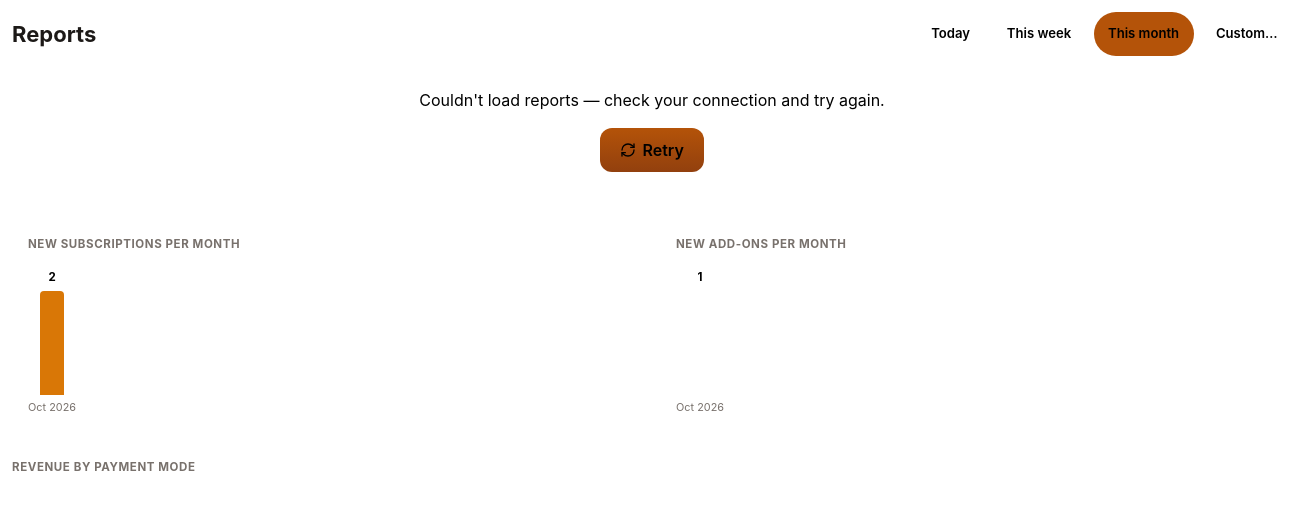
Test case: ReportsPage — the two sections load independently › a failing summary offers a Retry that reloads ONLY the member summary
Check: the text "Couldn't load reports — check your connection and try again." is shown, box [419, 90, 885, 110]
What coordinates should you click on to do the following:
click the button "Retry"
I would click on:
 (652, 150)
Its box is [600, 128, 704, 172].
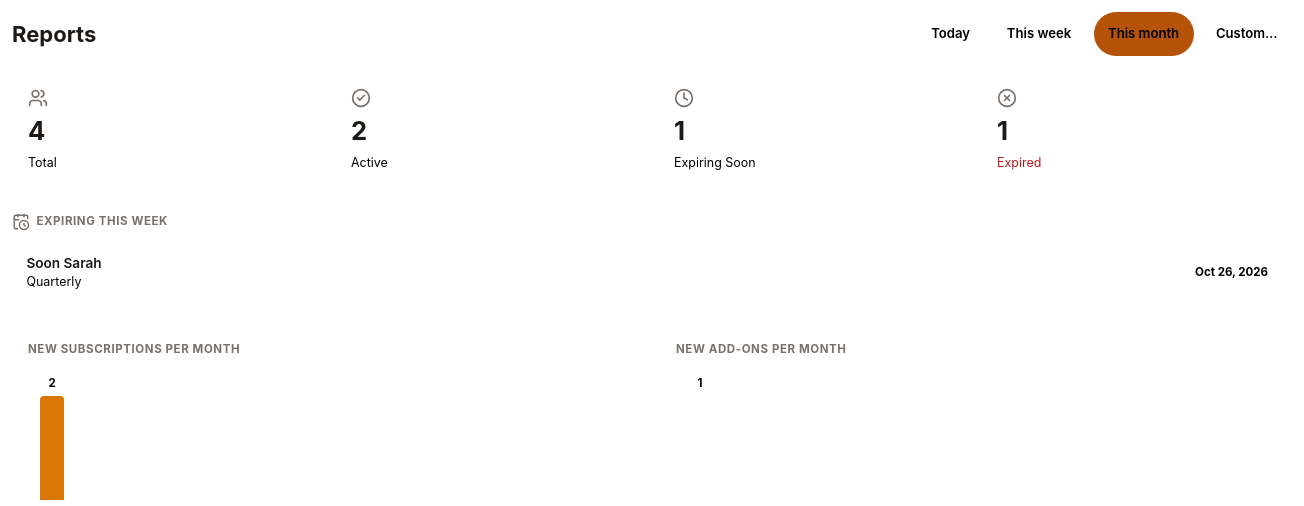
Check: the text "Total" is shown, box [28, 155, 57, 170]
